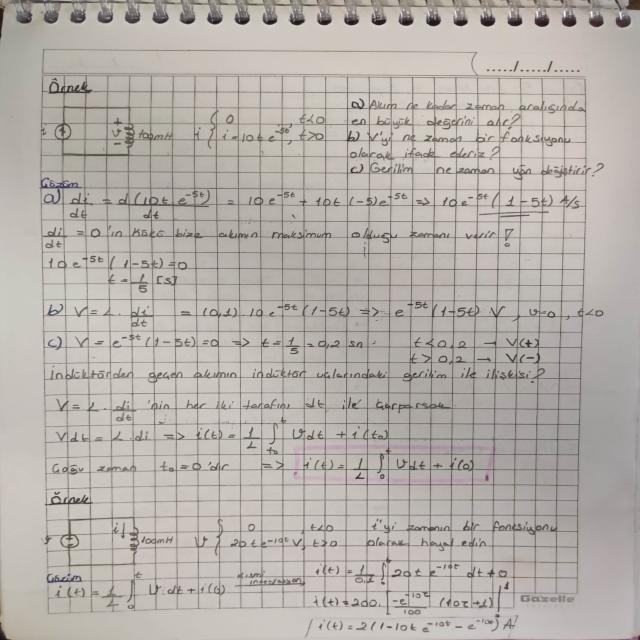image: (38, 102, 176, 162), (37, 514, 183, 569)
math: (46, 331, 548, 366), (41, 190, 587, 222), (310, 559, 524, 639), (46, 301, 606, 330), (50, 416, 398, 451), (158, 451, 490, 484), (186, 106, 330, 159), (189, 514, 346, 557), (43, 254, 201, 296), (53, 582, 226, 611), (47, 393, 141, 425), (35, 224, 109, 253)
text: (340, 96, 605, 182), (46, 364, 552, 384), (110, 224, 514, 246), (360, 516, 564, 551), (143, 395, 457, 413), (47, 459, 149, 480), (40, 74, 99, 97), (231, 570, 309, 587), (46, 489, 95, 509), (35, 176, 81, 189), (46, 572, 84, 584)
